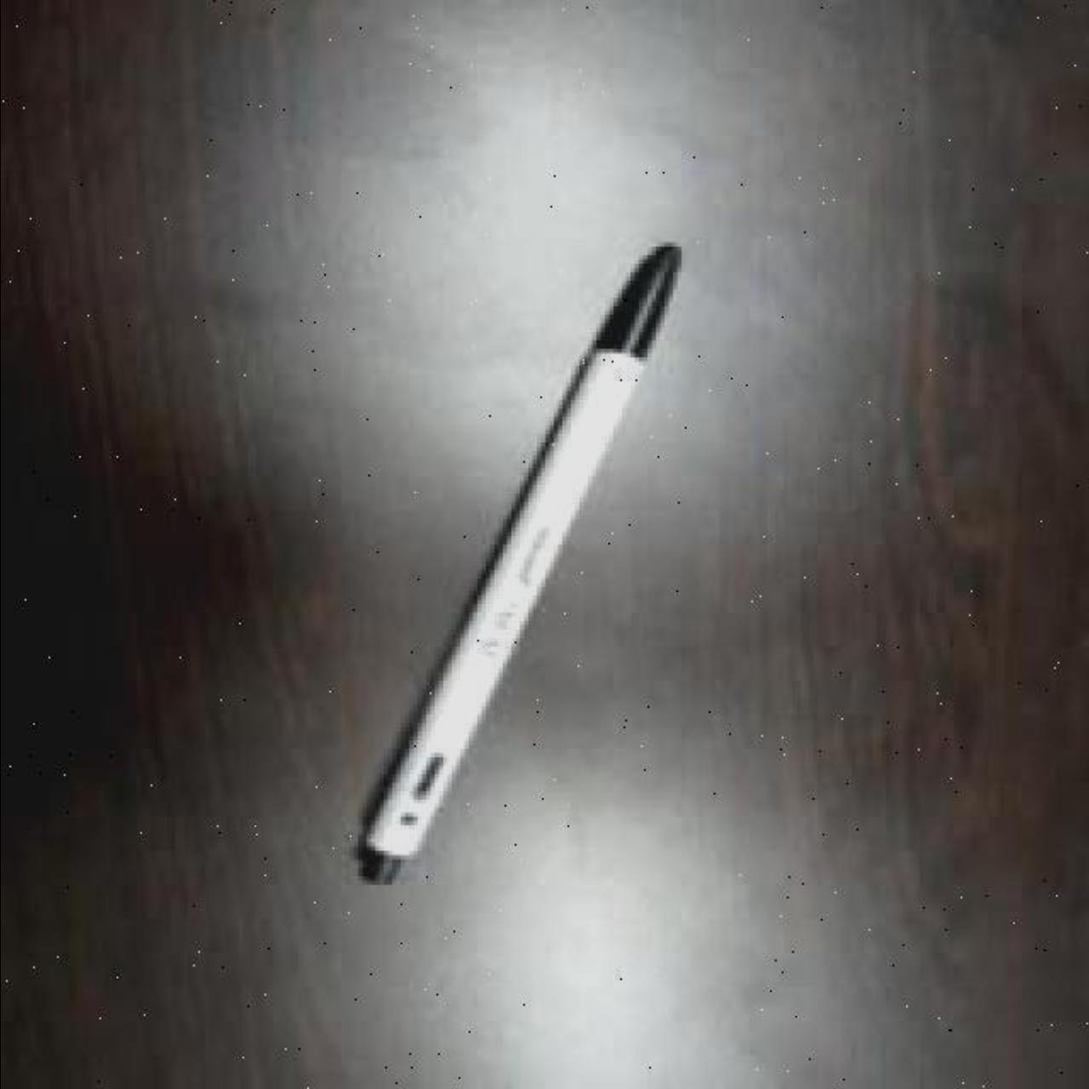pen: (344, 238, 710, 890)
